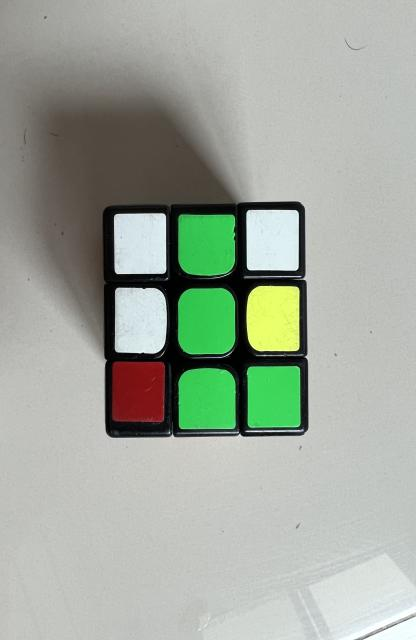Green: (178, 288, 236, 355), (178, 214, 235, 276), (179, 368, 236, 430), (247, 366, 301, 428)
Red: (112, 361, 165, 422)
White: (115, 288, 167, 354), (114, 212, 167, 274), (246, 210, 299, 271)
Yellow: (246, 286, 300, 351)
